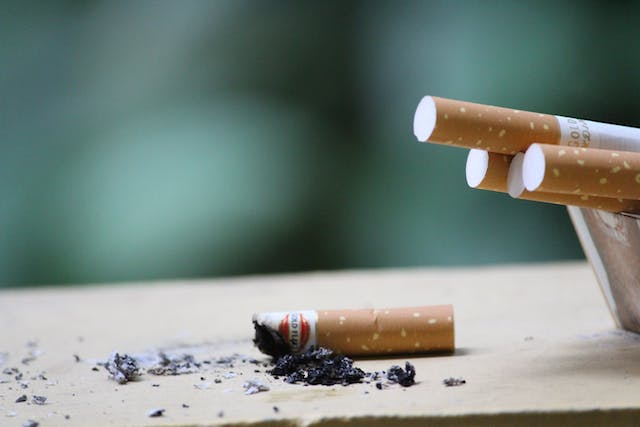Cigarette: (250, 302, 457, 359)
